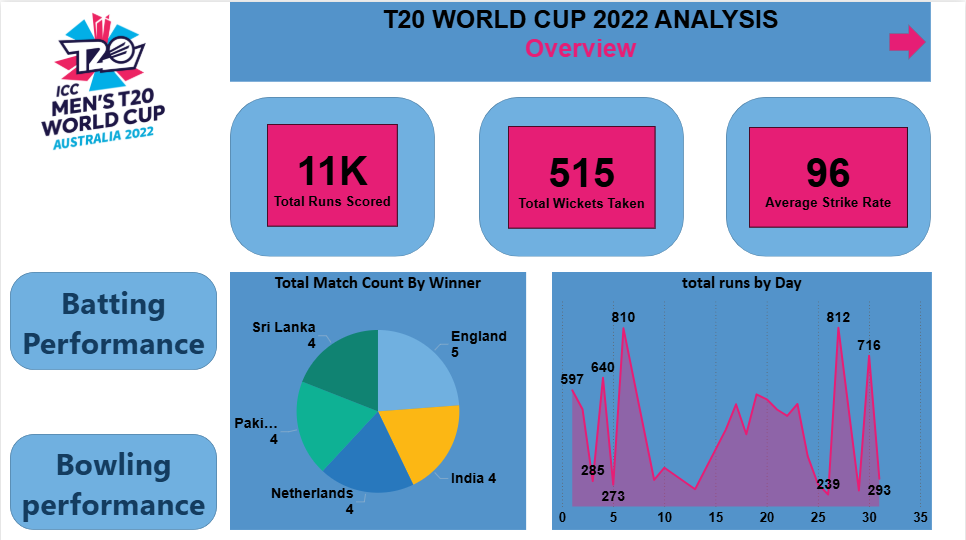

This screenshot's page, from the dashboard's own definition file:
{"tool":"powerbi","page":{"name":"overview","canvas":[1440,831],"ordinal":0},"visuals":[{"type":"textbox","box":[342.3,0,1046.2,119.2],"z":3000},{"type":"image","box":[0,0,305.8,236.5],"z":4000},{"type":"pieChart","title":"Total Match Count By Winner","fields":{"Category":["match_results.winner"],"Y":["measures table.total_match count"]},"box":[341.7,403.3,441.7,385],"z":8000},{"type":"areaChart","fields":{"Category":["match_results.matchDate.Variation.Date Hierarchy.Day"],"Y":["measures table.total runs"]},"box":[821.7,403.3,566.7,385],"z":9000},{"type":"shape","box":[1325,32.7,55.8,53.8],"z":10000},{"type":"shape","box":[1082.7,142.3,305.8,238.5],"z":10062},{"type":"shape","box":[713.5,142.3,305.8,238.5],"z":10125},{"type":"shape","box":[342.3,142.3,305.8,238.5],"z":10250},{"type":"card","fields":{"Values":["measures table.total wickets"]},"box":[756.7,185,220,153.3],"z":10312},{"type":"card","fields":{"Values":["measures table.avg_SR"]},"box":[1116.7,186.7,236.7,150],"z":10375},{"type":"card","fields":{"Values":["measures table.total runs"]},"box":[396.7,181.7,195,153.3],"z":10500},{"type":"shape","box":[13.4,403,309,146.3],"z":10502},{"type":"shape","box":[13.4,644.8,309,143.3],"z":10503}]}

Visuals, with their boxes in screenshot pixels (x1, y1, x2, y2):
textbox: <region>230, 0, 926, 79</region>
image: <region>3, 0, 206, 157</region>
"Total Match Count By Winner" pieChart: <region>230, 268, 524, 525</region>
areaChart - match_results.matchDate.Variation.Date Hierarchy.Day x measures table.total runs: <region>549, 268, 926, 525</region>
shape: <region>884, 22, 921, 58</region>
shape: <region>723, 95, 926, 253</region>
shape: <region>477, 95, 681, 253</region>
shape: <region>230, 95, 434, 253</region>
card - measures table.total wickets: <region>506, 123, 652, 225</region>
card - measures table.avg_SR: <region>746, 124, 903, 224</region>
card - measures table.total runs: <region>267, 121, 396, 223</region>
shape: <region>11, 268, 217, 366</region>
shape: <region>11, 429, 217, 524</region>
